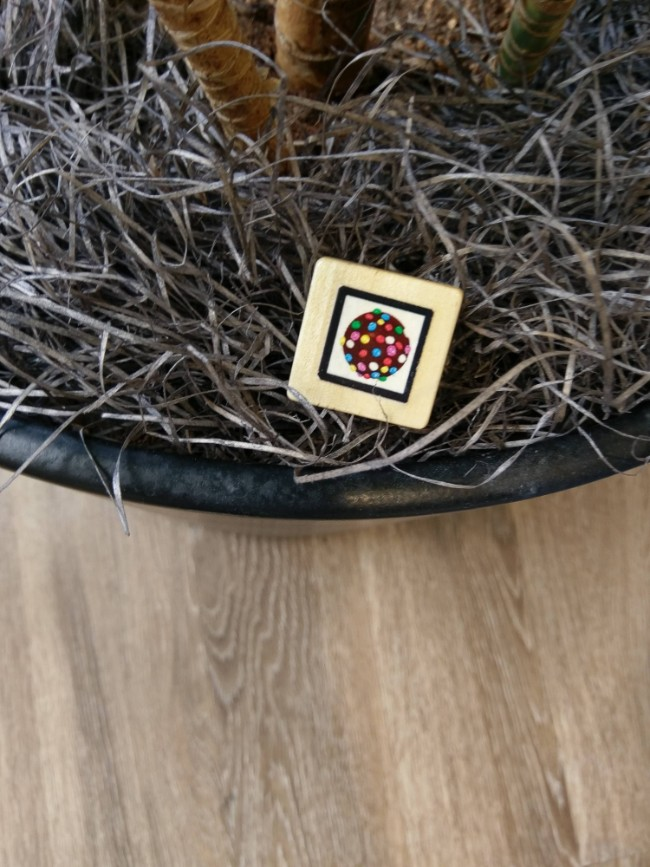cookie: (295, 275, 438, 410)
